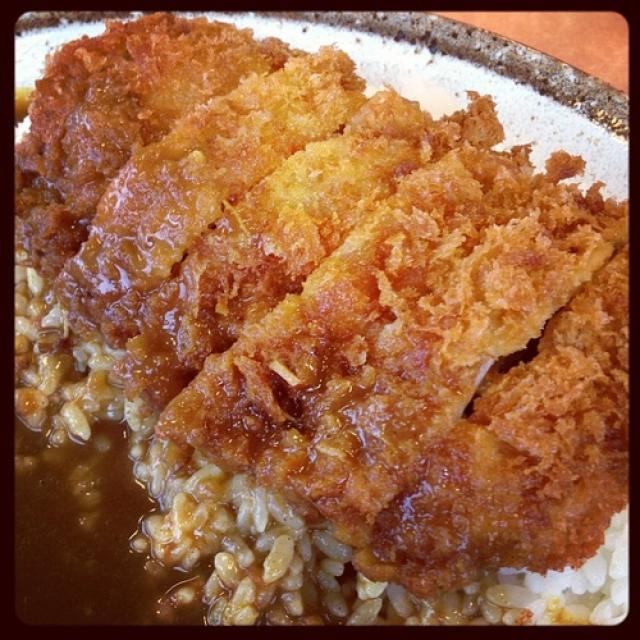鸡肉料理 含炸鸡: (19, 15, 630, 608)
